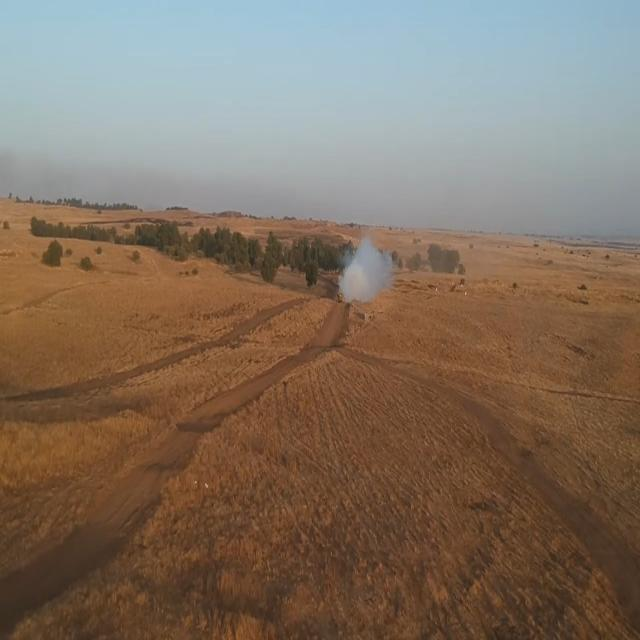tank: (334, 287, 351, 312)
